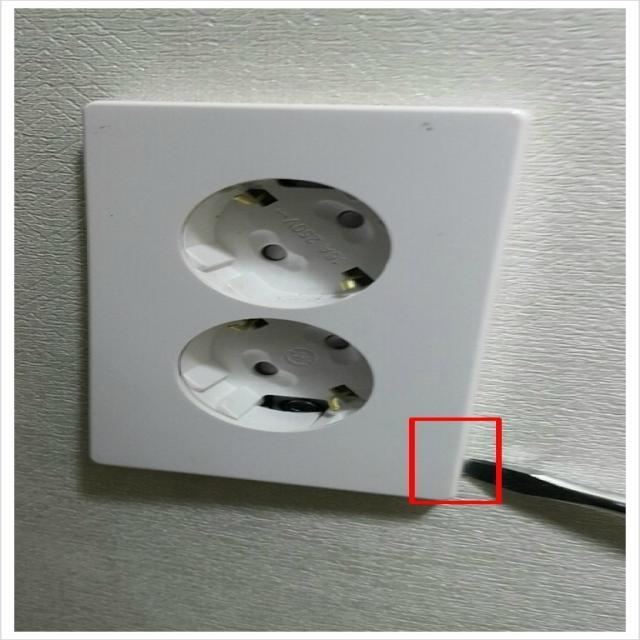typeb: (48, 92, 558, 510)
